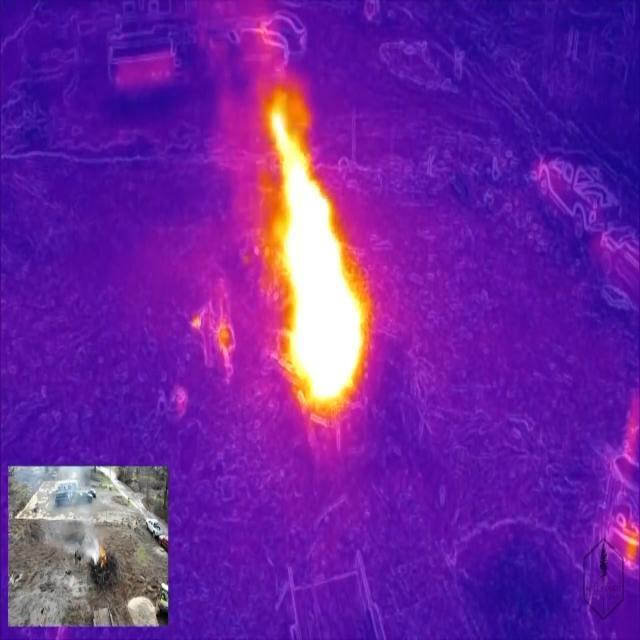fire: (264, 95, 369, 413)
